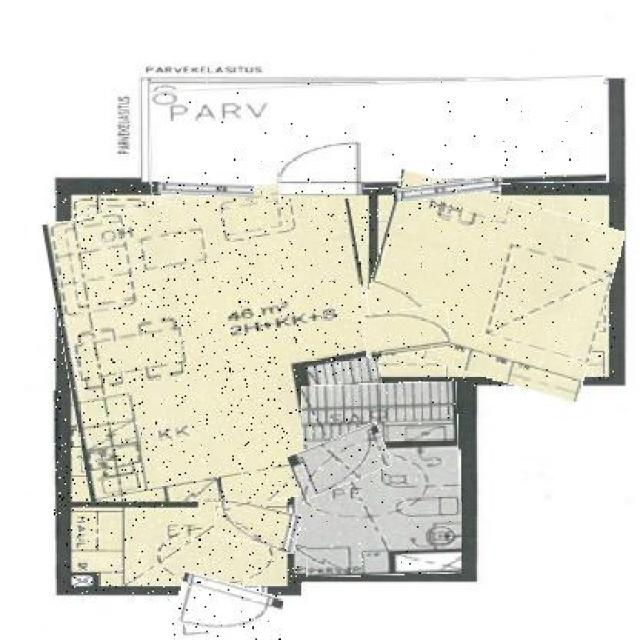door: (172, 577, 280, 640), (291, 431, 389, 492), (279, 137, 363, 198), (363, 308, 451, 357), (214, 504, 300, 550)
window: (392, 178, 498, 198), (151, 181, 254, 197)
zone: (53, 185, 384, 520), (367, 183, 616, 388), (151, 80, 606, 191), (302, 384, 460, 576), (63, 501, 306, 594)
